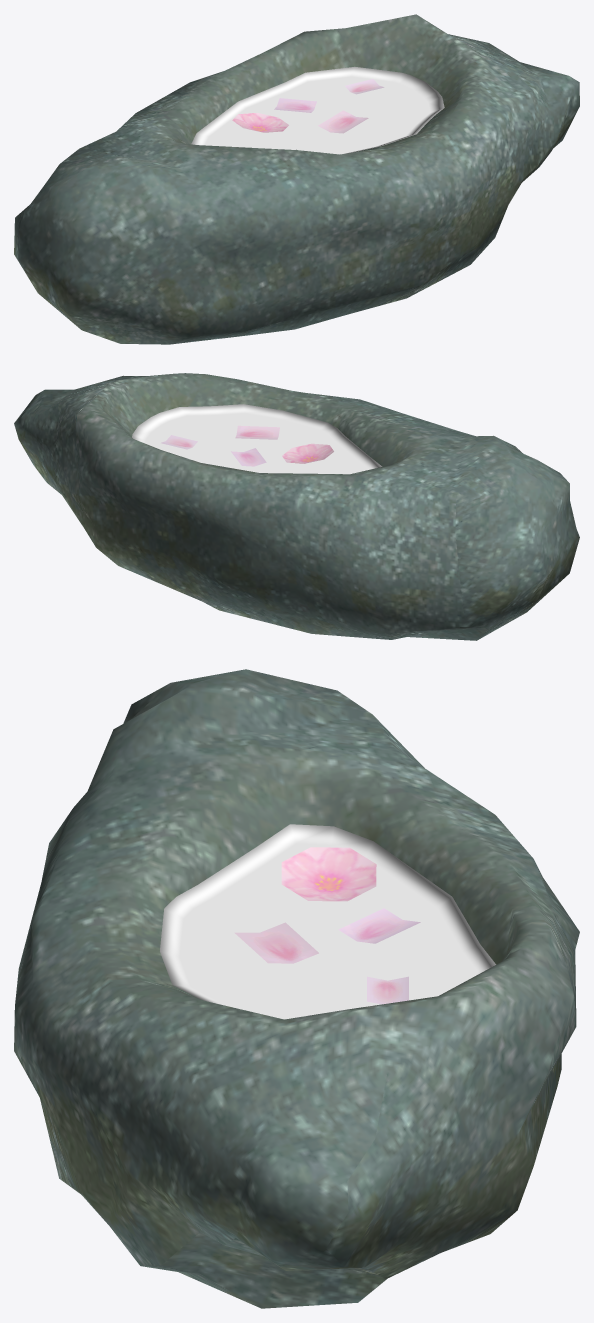
The model's file is FtrStonewaterbowlSakura.glb.
3 views of the same model, one above another, from view 1: azimuth 30°, elevation 25°; view 2: azimuth 150°, elevation 25°; view 3: azimuth 270°, elevation 25° (orthographic). The views are drawn at different scales.
Visible parts, largest first — view 1: Body_low__mBody, Water_low__mWater, Sakura01_low__mLeaf; view 2: Body_low__mBody, Water_low__mWater, Sakura01_low__mLeaf; view 3: Body_low__mBody, Water_low__mWater, Sakura01_low__mLeaf.
Part boxes in pixels (<box>): Body_low__mBody: <box>14,14,579,344</box>; Water_low__mWater: <box>191,66,444,154</box>; Sakura01_low__mLeaf: <box>232,79,384,133</box>; Body_low__mBody: <box>14,373,579,640</box>; Water_low__mWater: <box>132,404,382,474</box>; Sakura01_low__mLeaf: <box>161,425,333,466</box>; Body_low__mBody: <box>14,669,579,1308</box>; Water_low__mWater: <box>160,824,496,1019</box>; Sakura01_low__mLeaf: <box>234,847,420,1004</box>.
Bounding box in the file's own units: 18.04 × 5.94 × 8.91.
3 materials, 2 textured.
